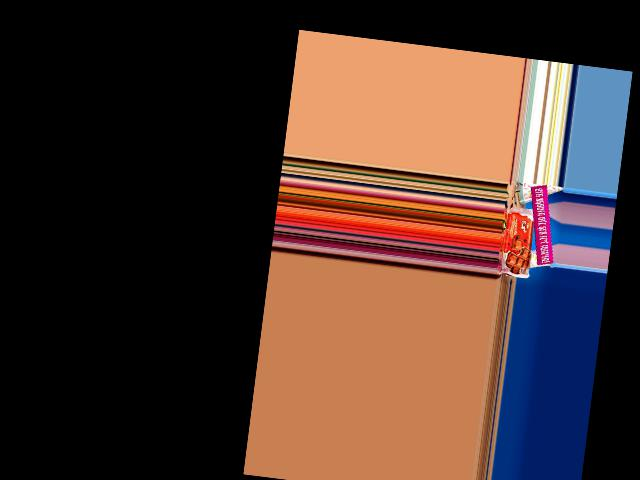chocolate: (498, 204, 538, 280)
